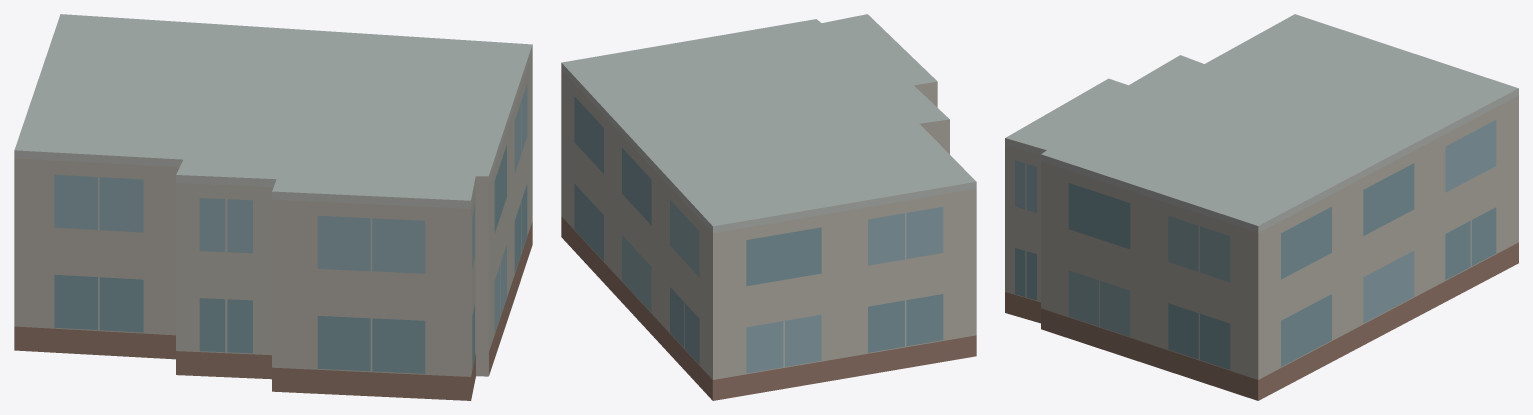
File: survey-upis-32862911.glb
3 renders of one model, left to right at view 1: azimuth 30°, elevation 25°; view 2: azimuth 150°, elevation 25°; view 3: azimuth 270°, elevation 25°, orthographic. The views are drawn at different scales.
Visible parts, largest first — view 1: survey-upis-32862911.tmp; view 2: survey-upis-32862911.tmp; view 3: survey-upis-32862911.tmp.
Part boxes in pixels (x1,y1,x2,y2): survey-upis-32862911.tmp: (14, 14, 532, 400); survey-upis-32862911.tmp: (561, 14, 976, 400); survey-upis-32862911.tmp: (1005, 14, 1518, 400).
Size of the model in its own units: 15.87 by 6.1 by 16.25.
